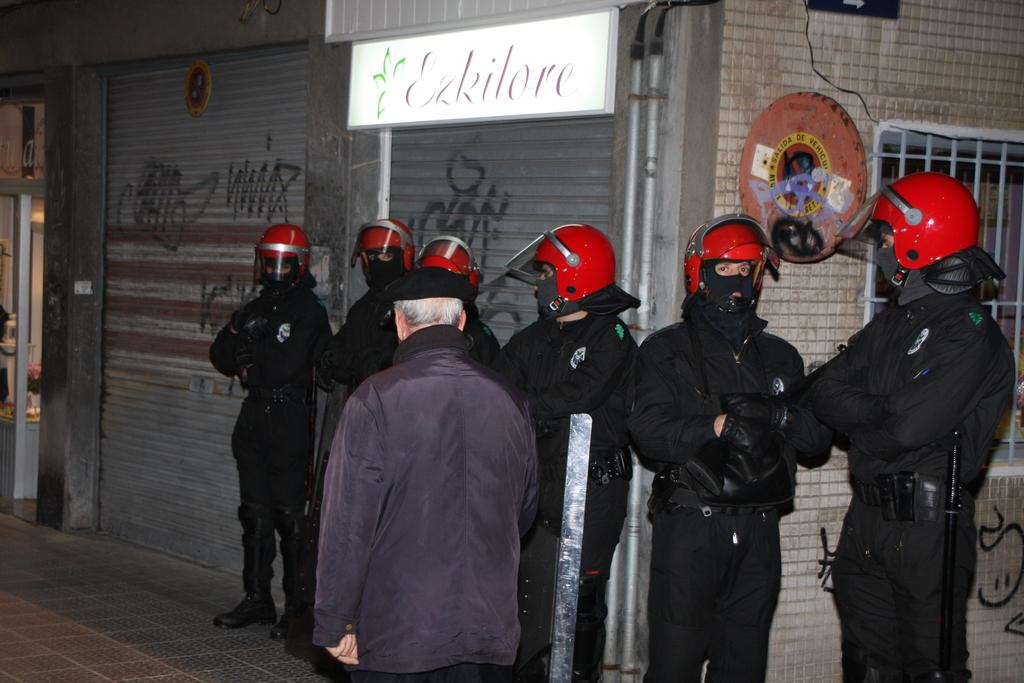helmet: (833, 171, 981, 286), (504, 223, 616, 310), (683, 213, 780, 310), (416, 235, 481, 306), (350, 219, 415, 284), (253, 223, 311, 288)
nohelmet: (372, 264, 478, 362)
